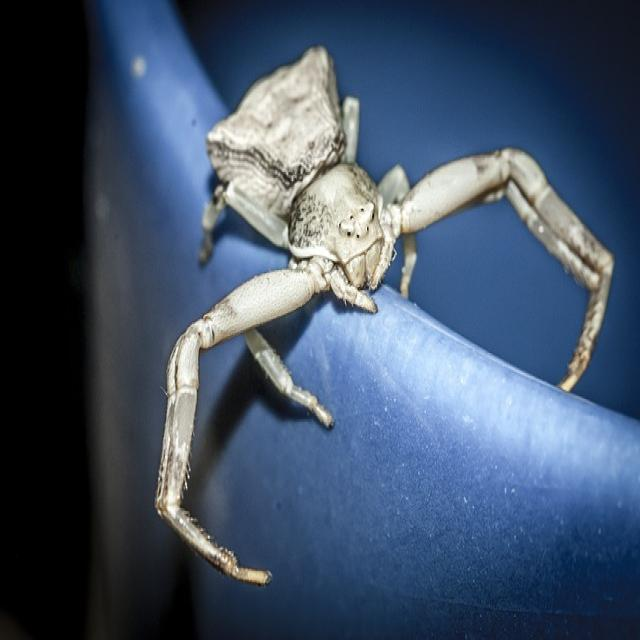spyder: (155, 48, 612, 584)
